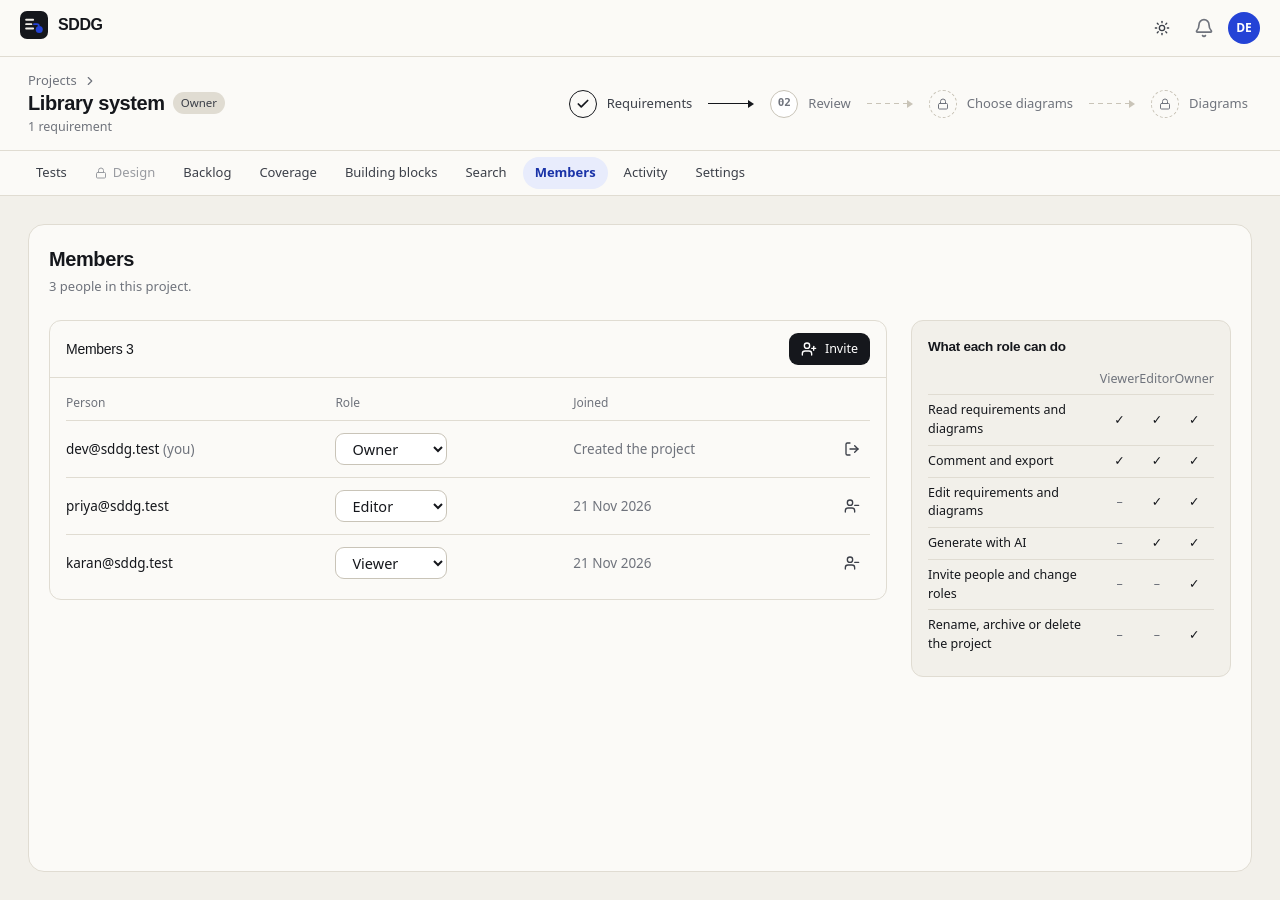
it: Members page › refuses to demote the last Owner and says why
The image size is (1280, 900).
Select "Viewer" in the dropdown named "Role for dev@sddg.test": (391, 449) x1=335 y1=433 x2=447 y2=465
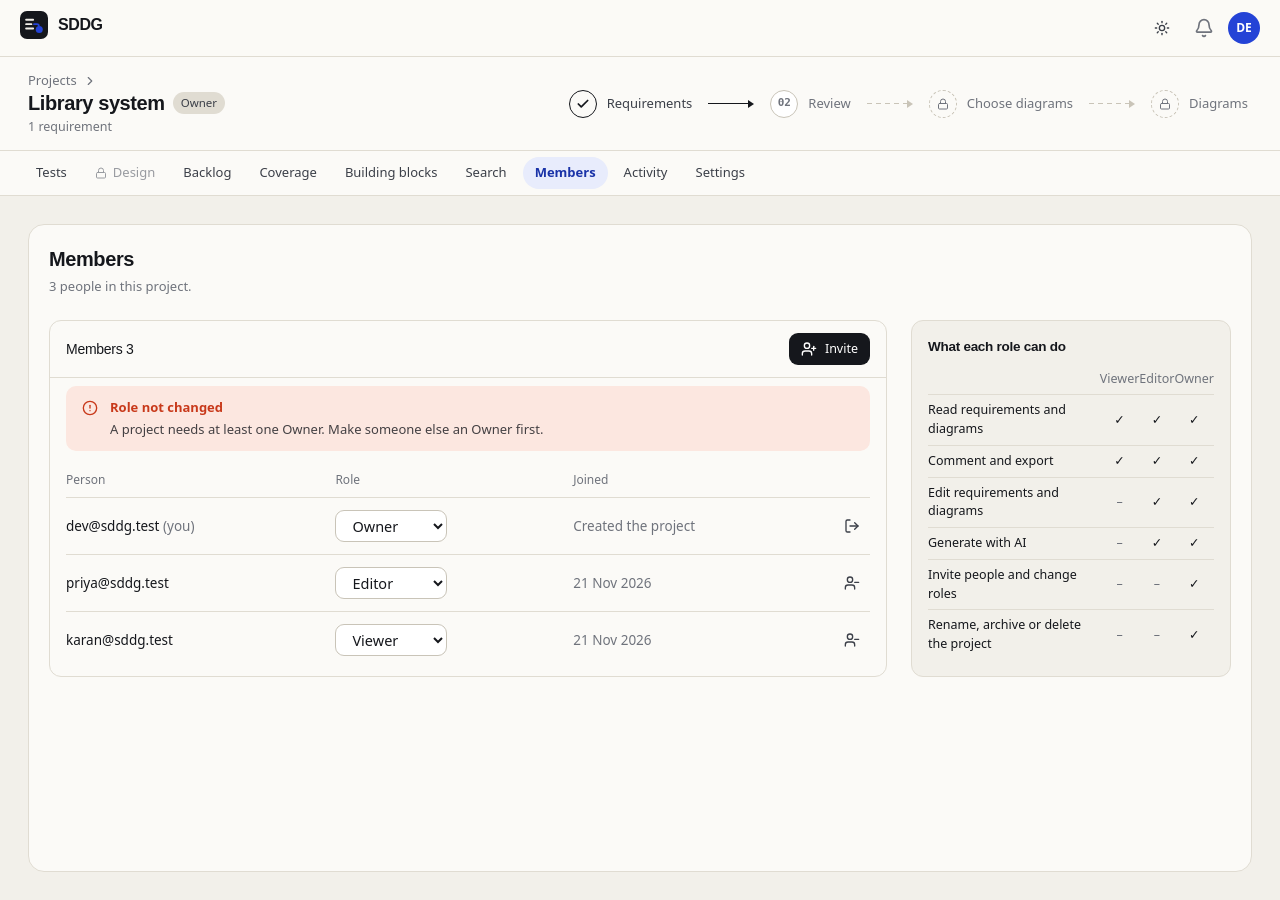
expect the text "needs at least one Owner" is shown: met, box x1=110 y1=420 x2=544 y2=438
